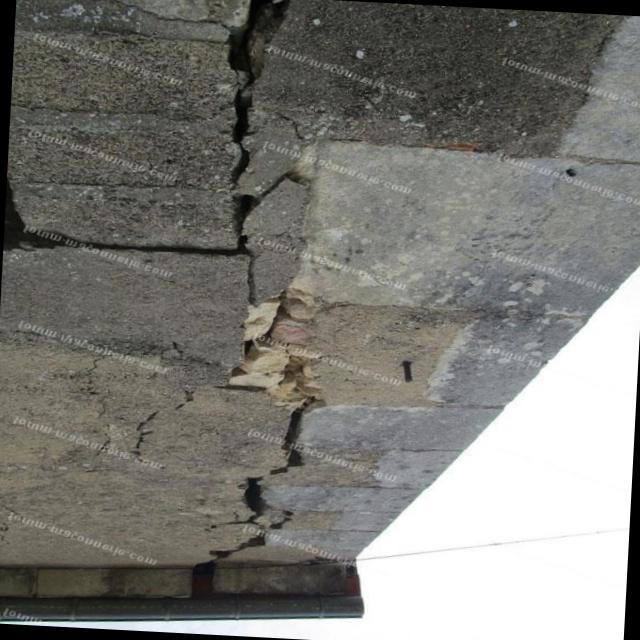crack: (214, 169, 329, 531), (3, 188, 238, 258), (225, 0, 288, 180)
